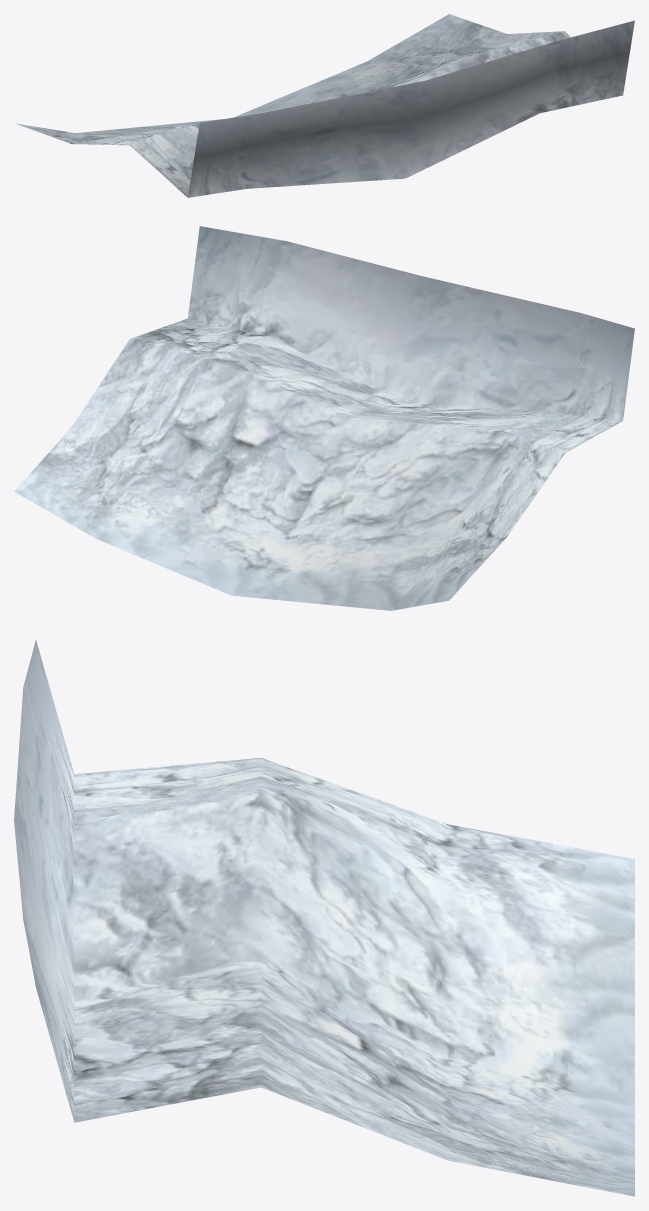
The picture shows the model from 3 angles, top to bottom: view 1: azimuth 30°, elevation 25°; view 2: azimuth 150°, elevation 25°; view 3: azimuth 270°, elevation 25°; orthographic projection. The views are drawn at different scales.
Visible parts, largest first — view 1: model_Object91; view 2: model_Object91; view 3: model_Object91.
Boxes of the visible parts, x1,y1,x2,y2 form: model_Object91: (15, 14, 634, 197); model_Object91: (14, 226, 634, 610); model_Object91: (14, 640, 634, 1196).
Size of the model in its own units: 4.5 by 1.82 by 3.45.
1 material, 1 textured.
